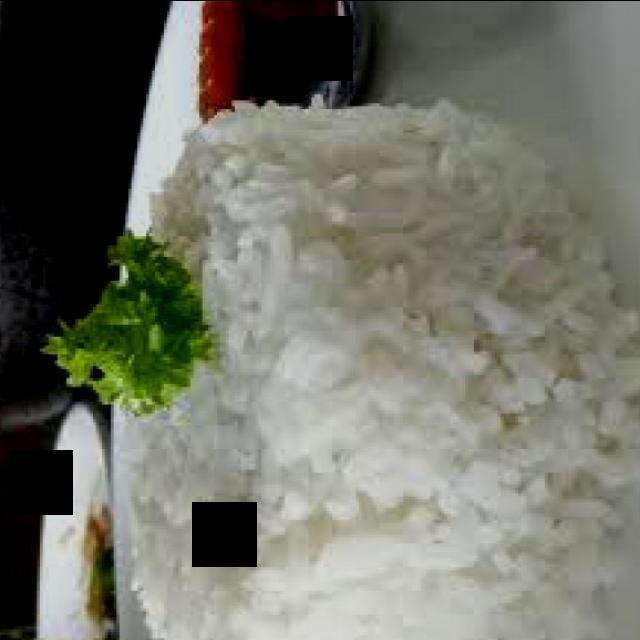Chicken -Chicken Inasal-: (123, 110, 638, 639)
